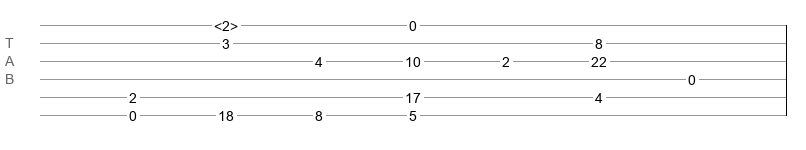0: (129, 108, 137, 118), (409, 18, 417, 28), (688, 72, 696, 82)
10: (405, 54, 421, 64)
17: (405, 90, 421, 100)
18: (218, 108, 234, 118)
2: (129, 90, 137, 100), (502, 54, 510, 64)
22: (591, 54, 607, 64)
3: (222, 36, 230, 46)
4: (315, 54, 323, 64), (595, 90, 603, 100)
5: (409, 108, 417, 118)
8: (315, 108, 323, 118), (595, 36, 603, 46)
harmonic: (214, 18, 238, 28)
